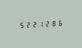eight: (52, 19, 58, 27)
five: (17, 21, 23, 28)
one: (38, 20, 44, 27)
six: (59, 19, 65, 26)
two: (24, 20, 30, 28), (31, 20, 37, 28), (45, 19, 51, 27)
